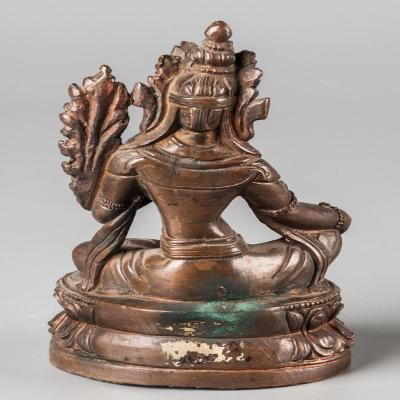sculpture: (50, 20, 355, 392)
